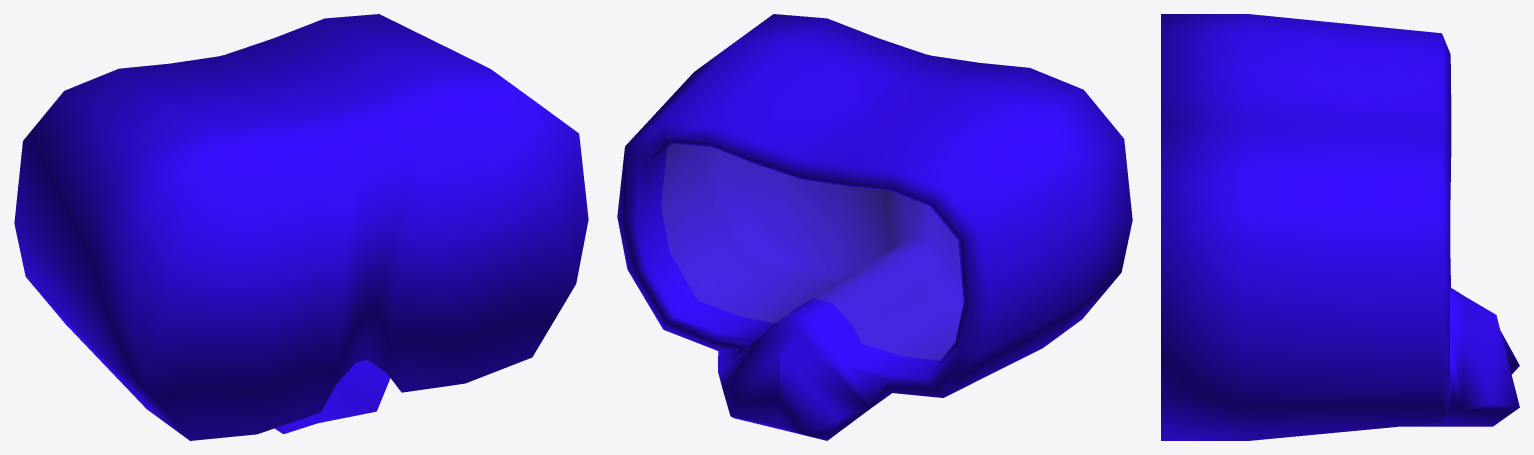
The model's file is item-mask-basic.glb.
The picture shows the model from 3 angles, left to right: view 1: azimuth 30°, elevation 25°; view 2: azimuth 150°, elevation 25°; view 3: azimuth 270°, elevation 25°; orthographic projection. The views are drawn at different scales.
Size of the model in its own units: 2.88 by 1.97 by 1.96.
